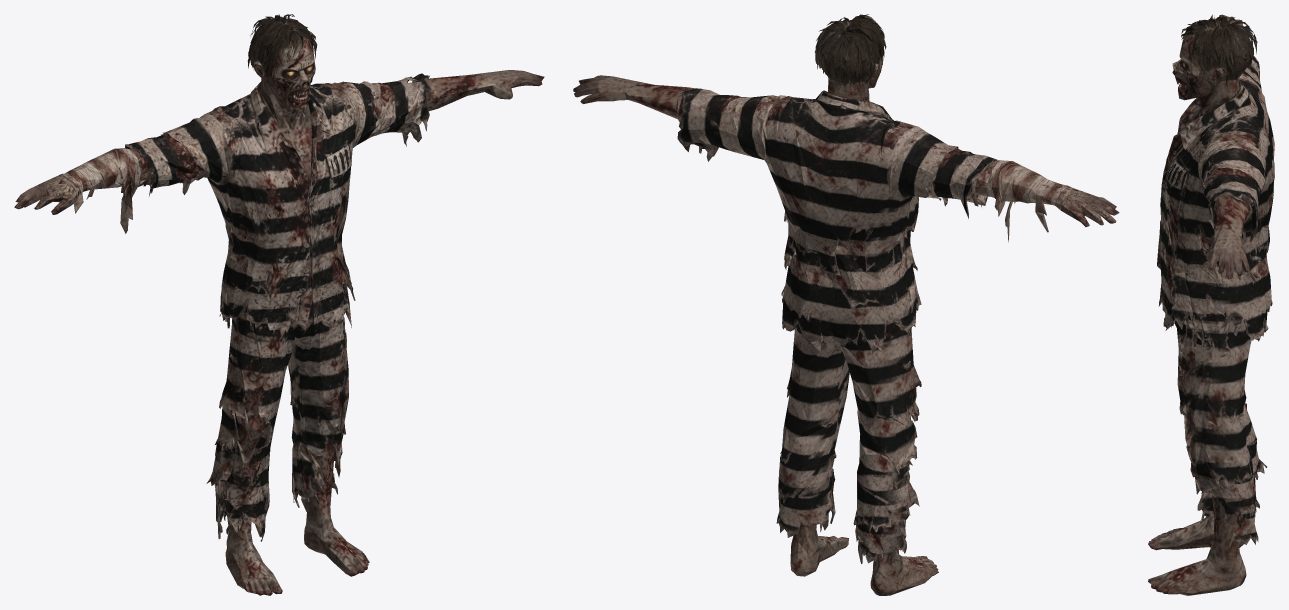
Rendered from Meshy_AI_zombie_prigione_dilan_1018143337_texture.fbx.
The picture shows the model from 3 angles, left to right: view 1: azimuth 30°, elevation 25°; view 2: azimuth 150°, elevation 25°; view 3: azimuth 270°, elevation 25°; orthographic projection. The views are drawn at different scales.
Parts seen in each view (by area): view 1: output_unwrapped; view 2: output_unwrapped; view 3: output_unwrapped.
Boxes of the visible parts, x1,y1,x2,y2 form: output_unwrapped: (14,14,544,595); output_unwrapped: (573,14,1119,595); output_unwrapped: (1148,14,1274,595).
Bounding box in the file's own units: 190 × 188 × 39.34.
1 material, 1 textured.
